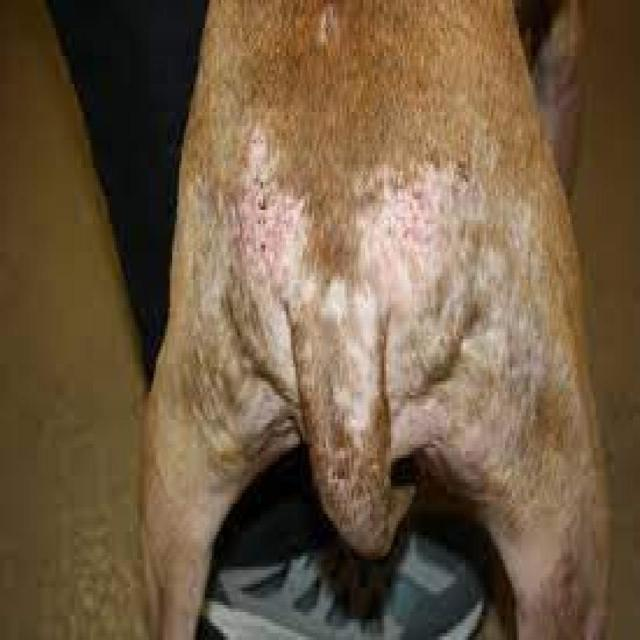allergic dermatitis: (366, 152, 476, 294), (231, 122, 302, 292)
